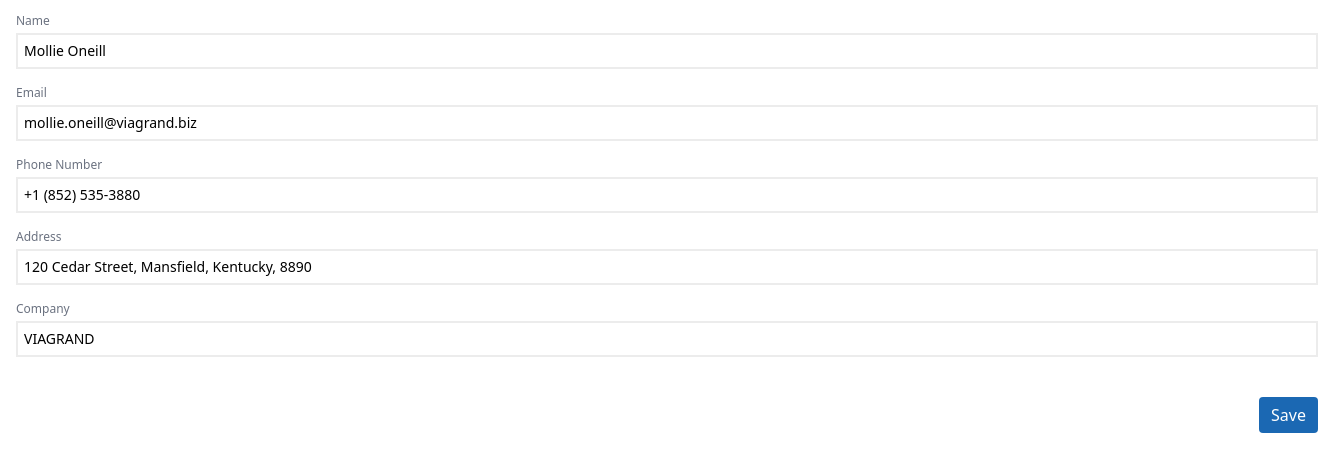
Test: UserForm › When you click Save:       1. Make an HTTP PUT request with the new user data to the appropriate       endpoint       2. Cancel button should disappear       3.
Expected: the button "Save" is disabled, [1259,397,1318,433]
Expected: the text "Cancel" is not shown
Replace the text in the field labelled "Name" with "Mollie Oneilla" at (667, 51), box [16,33,1318,69]
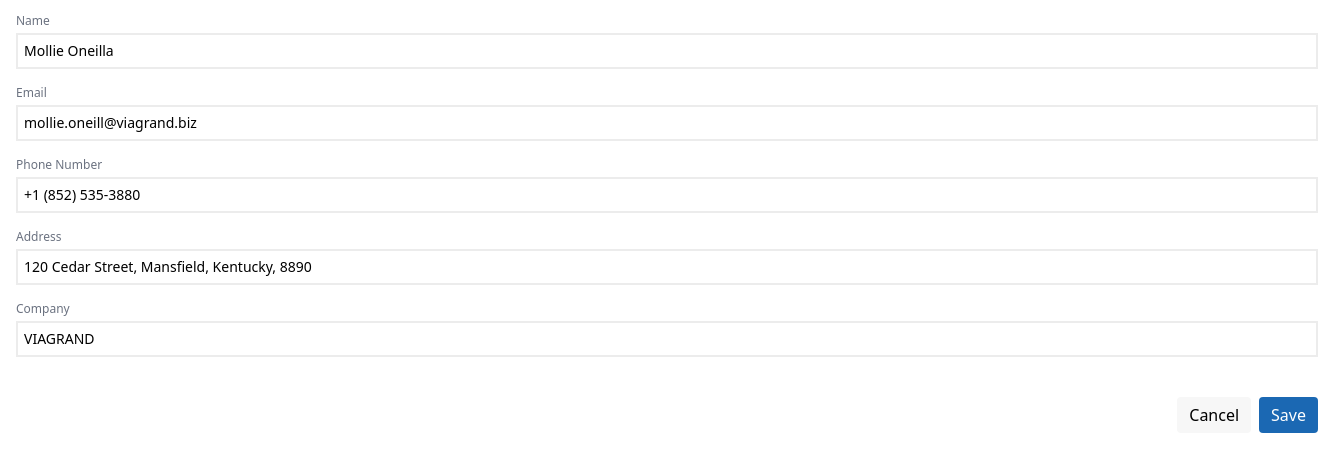
Click the button "Save" at (1289, 415), box [1259,397,1318,433]
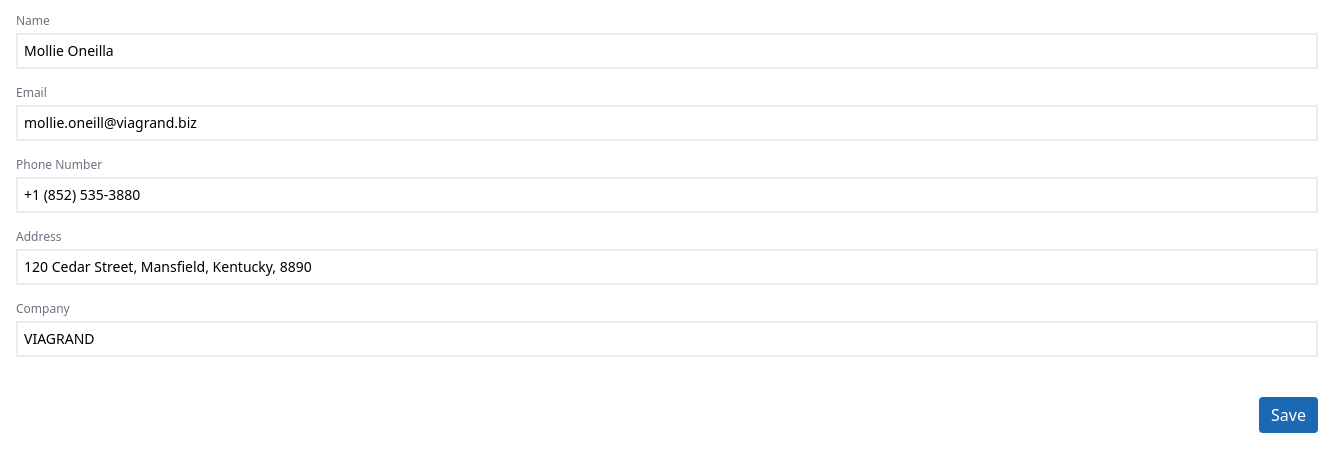
Expected: the button "Cancel" is gone
